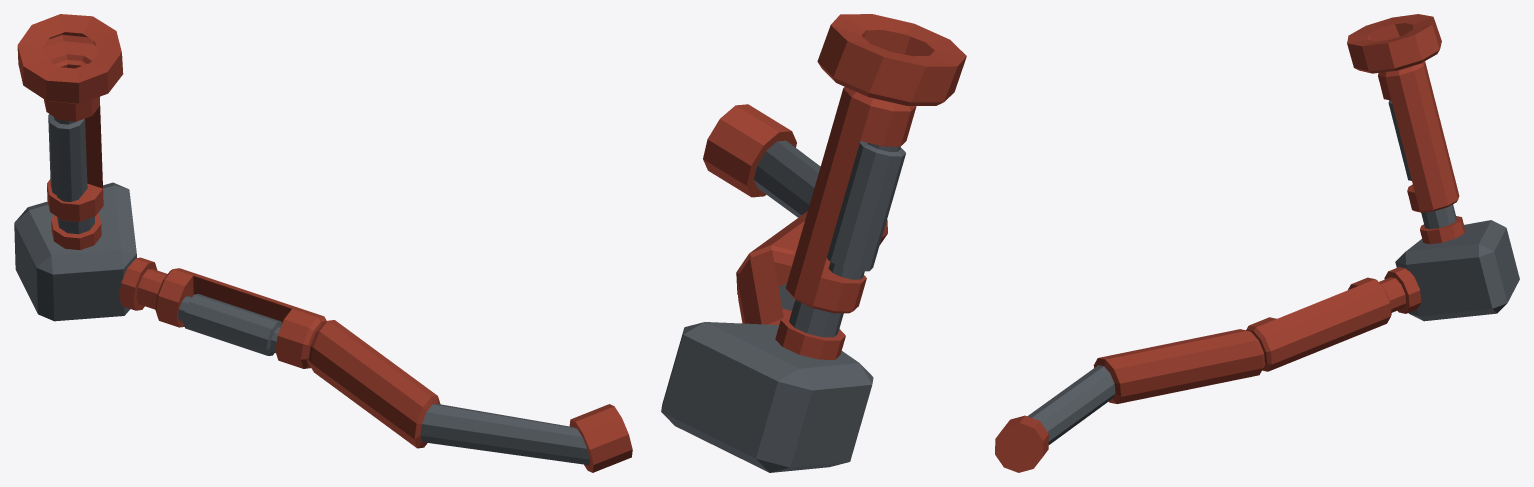
Rendered from Fighter_03_Pipes_06_Red.fbx.
3 views of the same model, side by side, from view 1: azimuth 30°, elevation 25°; view 2: azimuth 150°, elevation 25°; view 3: azimuth 270°, elevation 25° (orthographic). The views are drawn at different scales.
Parts seen in each view (by area): view 1: Fighter_03_Pipes_06_Red; view 2: Fighter_03_Pipes_06_Red; view 3: Fighter_03_Pipes_06_Red.
Boxes of the visible parts, left/top/right/bottom form: Fighter_03_Pipes_06_Red: left=14, top=14, right=632, bottom=472; Fighter_03_Pipes_06_Red: left=661, top=14, right=966, bottom=472; Fighter_03_Pipes_06_Red: left=995, top=14, right=1519, bottom=472.
Bounding box in the file's own units: 155 × 135 × 205.
Materials: 1 (1 with a texture image).
